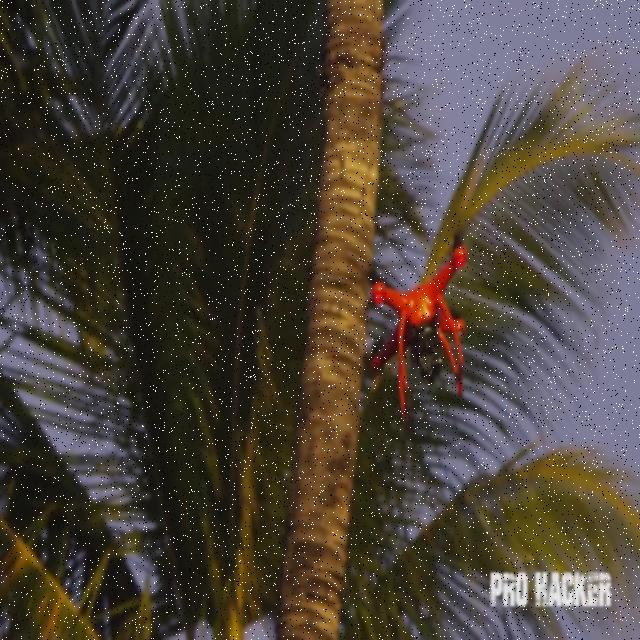UAV: (372, 228, 468, 421)
